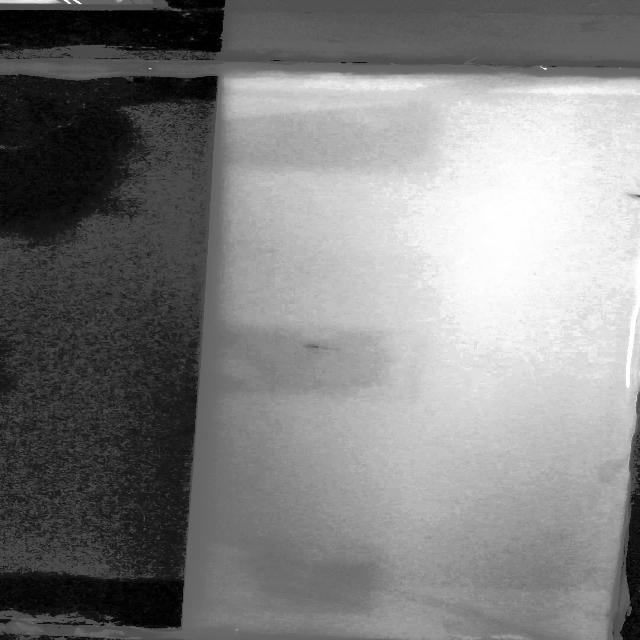shrimp: (291, 337, 330, 361)
